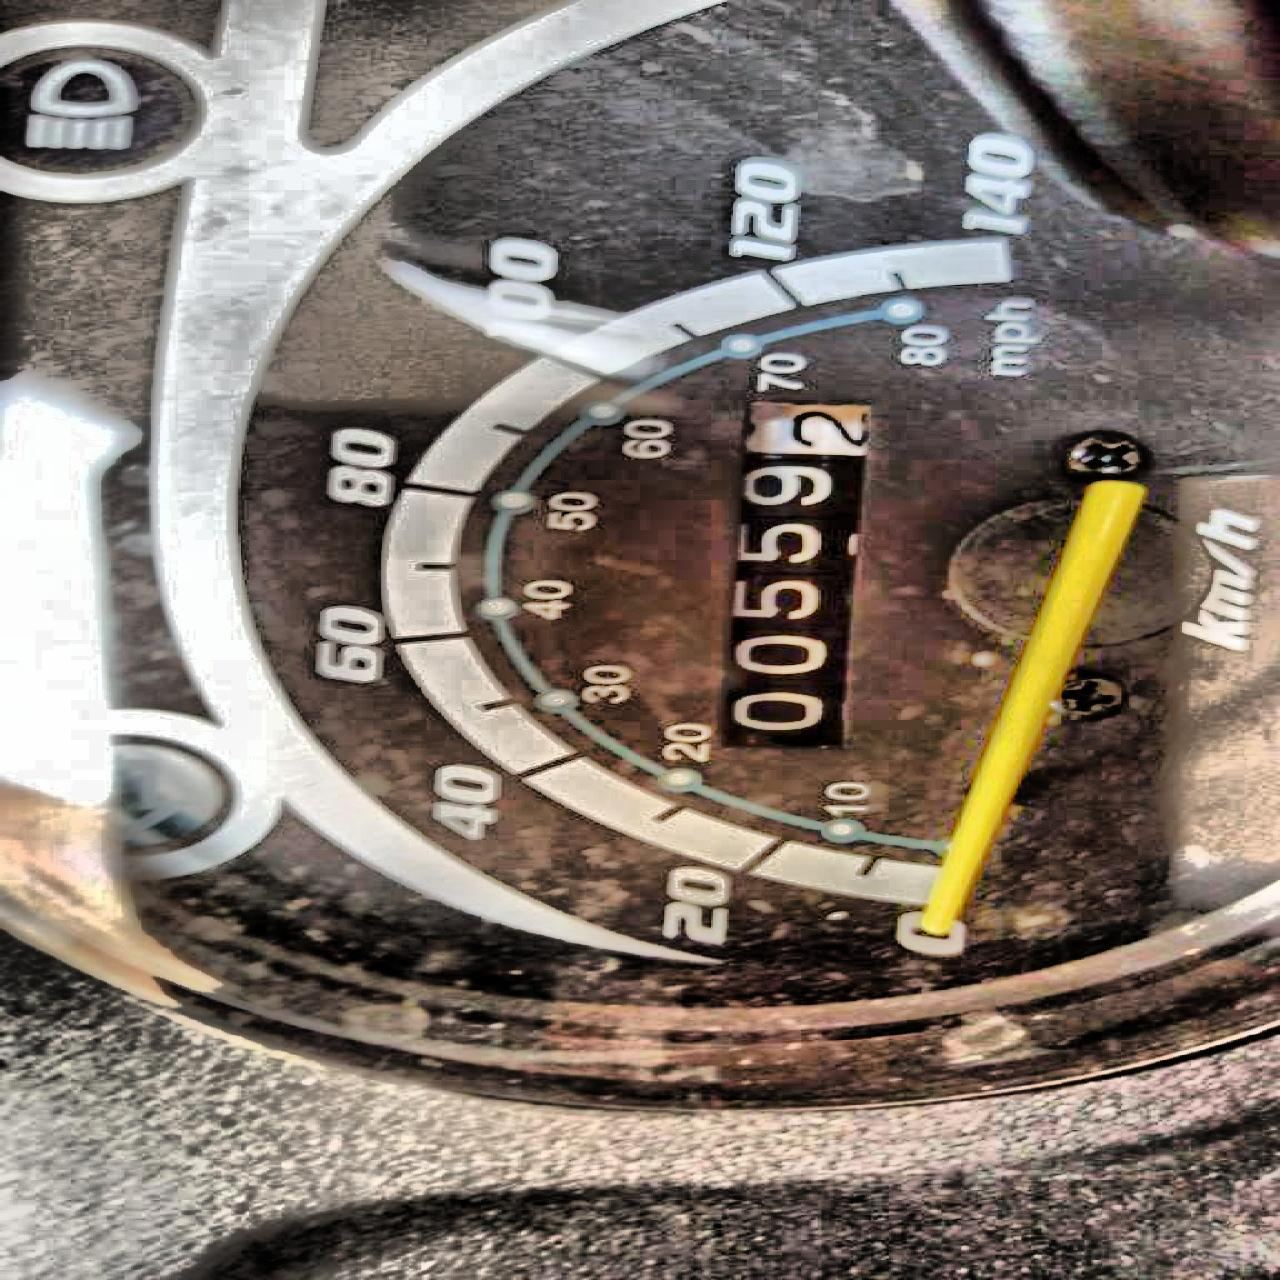0: (722, 627, 831, 676), (720, 687, 831, 733)
2: (779, 404, 878, 450)
5: (722, 516, 822, 566), (720, 576, 821, 622)
9: (731, 459, 833, 509)
odometer: (695, 394, 885, 758)
